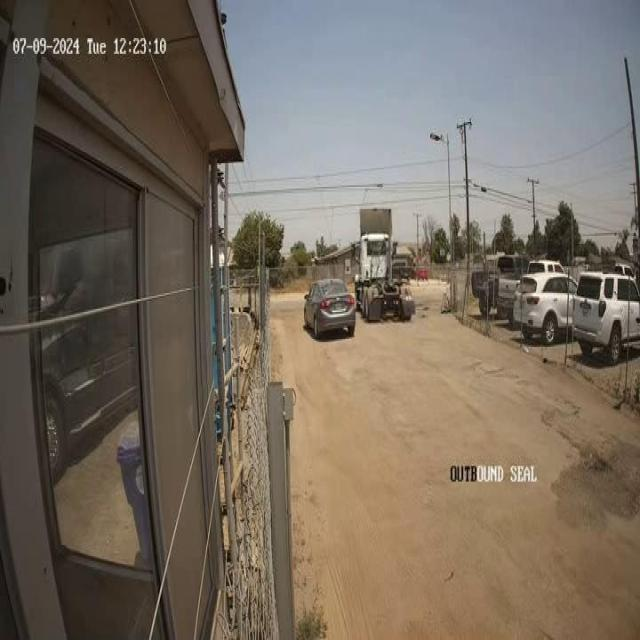TRUCK_OUT: (355, 201, 416, 321)
